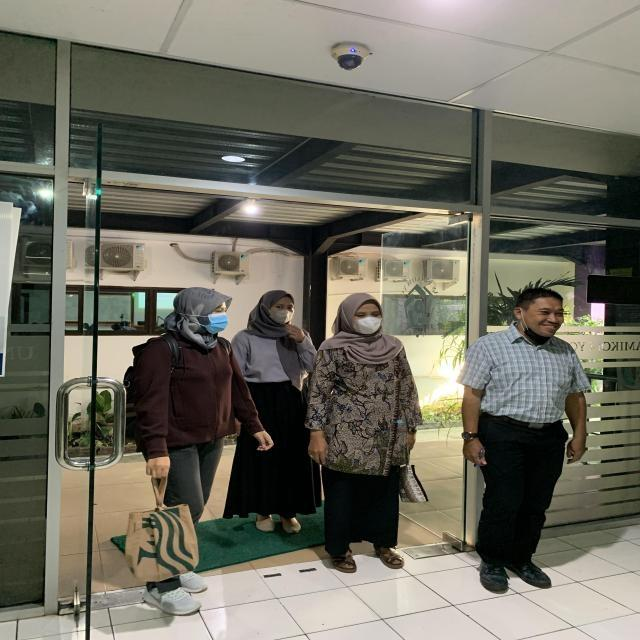hairnet: (513, 292, 590, 344)
